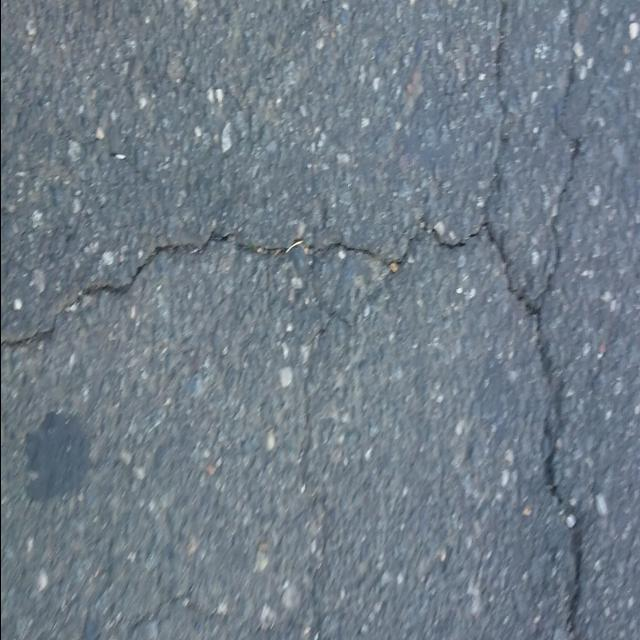Crack: (0, 0, 582, 640)
